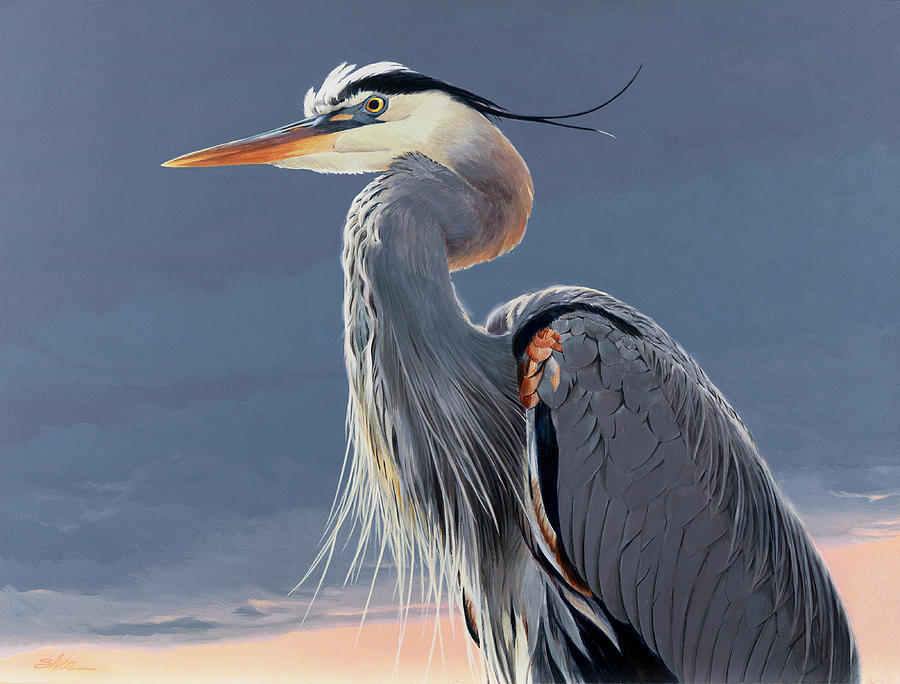heron: (155, 57, 860, 684)
